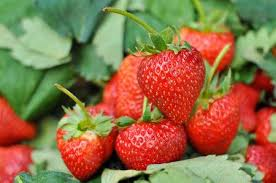ripe: (138, 38, 211, 131), (186, 75, 264, 160), (102, 37, 164, 124), (109, 110, 197, 170), (55, 105, 116, 180), (175, 19, 237, 81), (2, 87, 39, 144), (0, 141, 37, 179)
